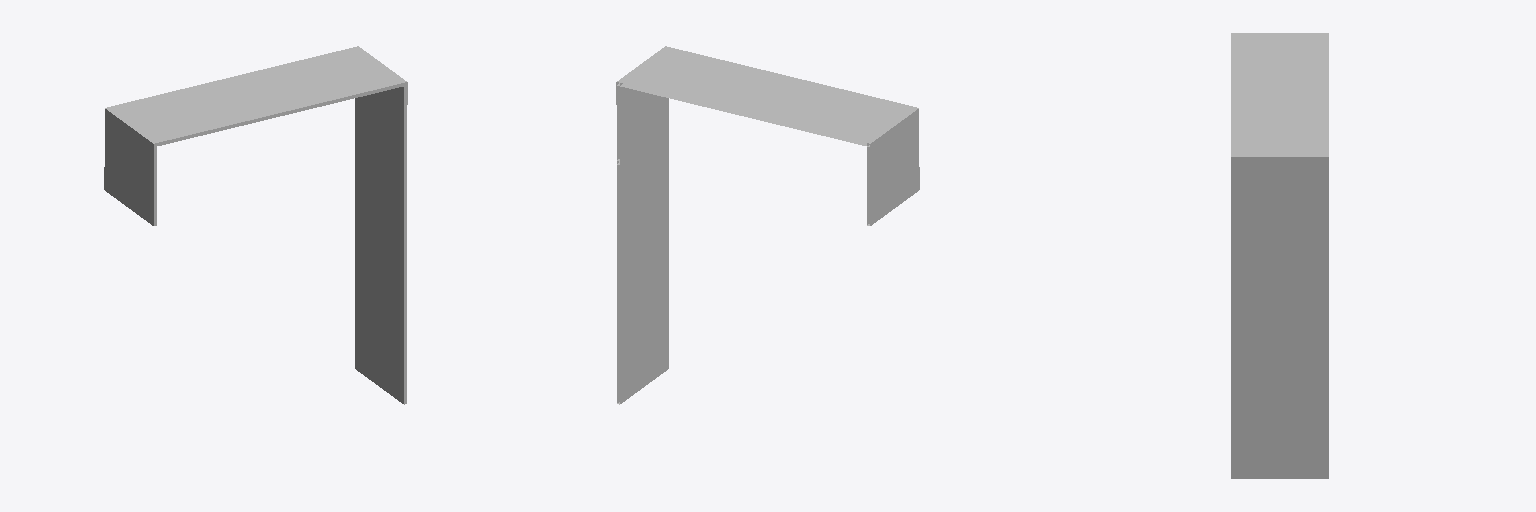
File: wall_1.obj
The picture shows the model from 3 angles: view 1: azimuth 30°, elevation 25°; view 2: azimuth 150°, elevation 25°; view 3: azimuth 270°, elevation 25°; orthographic projection.
Visible parts, largest first — view 1: walls; view 2: walls; view 3: walls.
Boxes of the visible parts, box(x1,y1,x2,y2) form: walls: box(104, 46, 407, 404); walls: box(616, 46, 919, 404); walls: box(1231, 33, 1328, 478).
Bounding box in the file's own units: 7.48 × 9.06 × 2.5.